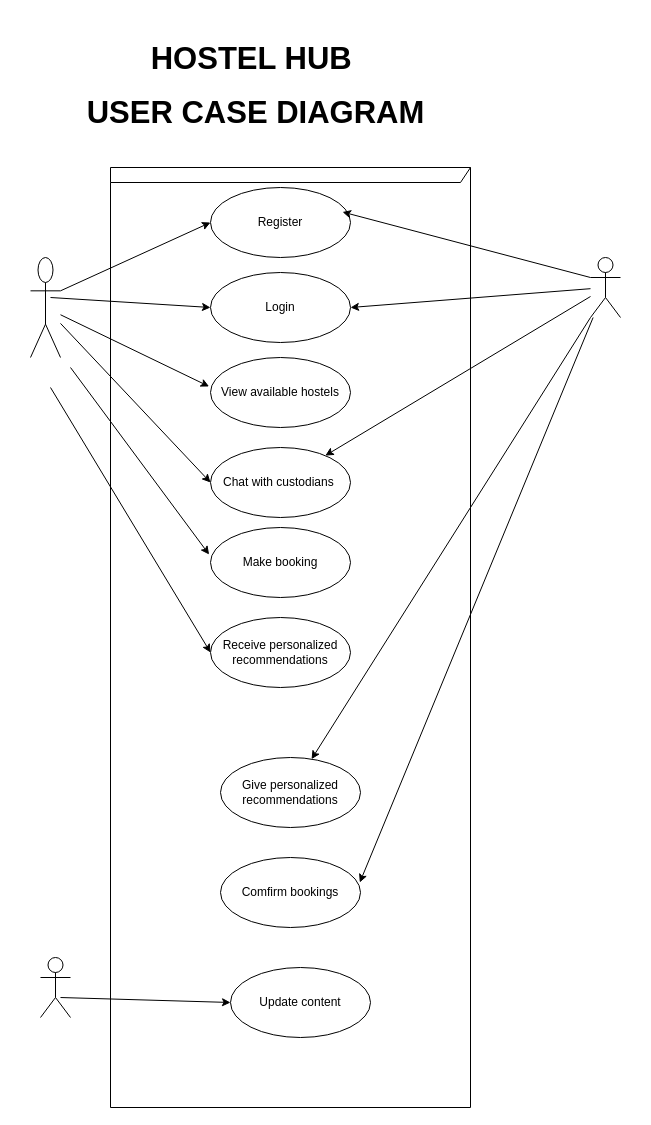
Image size: 651x1125. Some labels were removed from this diagram. Here are the shapes that lost their labels. From the top down, the centre of each, then its label:
[45,307]: Student
[605,287]: Custodian
[290,637]: Hostel Hub
[55,987]: System Admin
